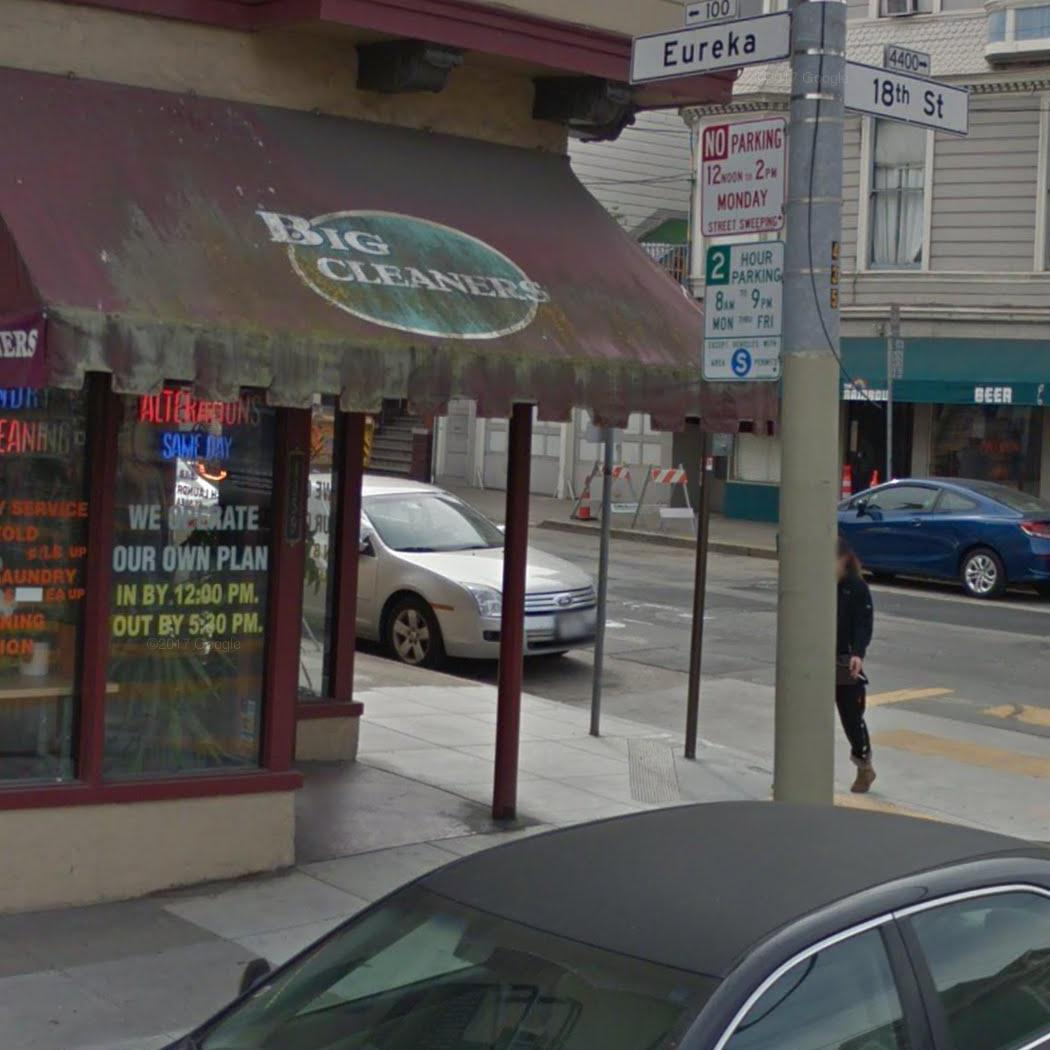2 Hour Parking: (692, 228, 791, 387)
No Parking: (691, 106, 795, 240)
